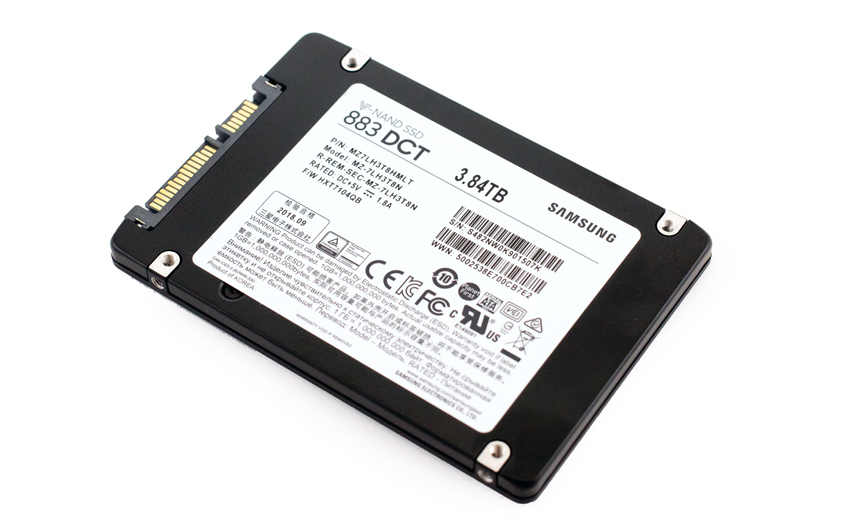samsung-hdd-240gb: (109, 35, 730, 500)
